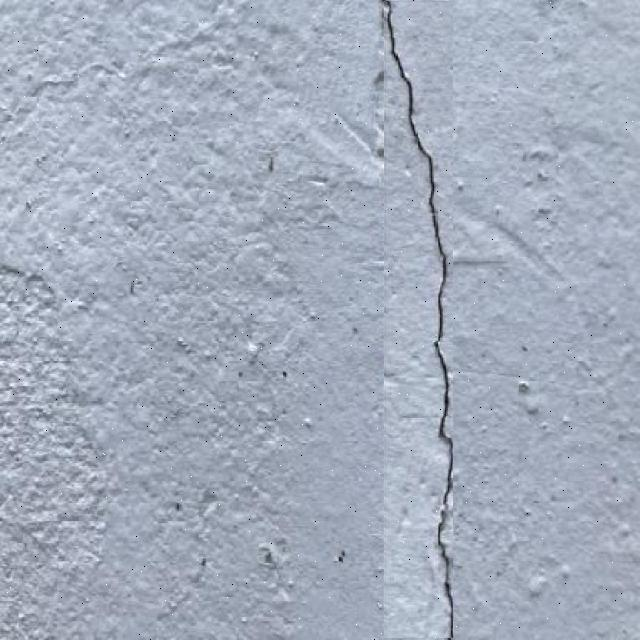crack: (375, 0, 457, 639)
